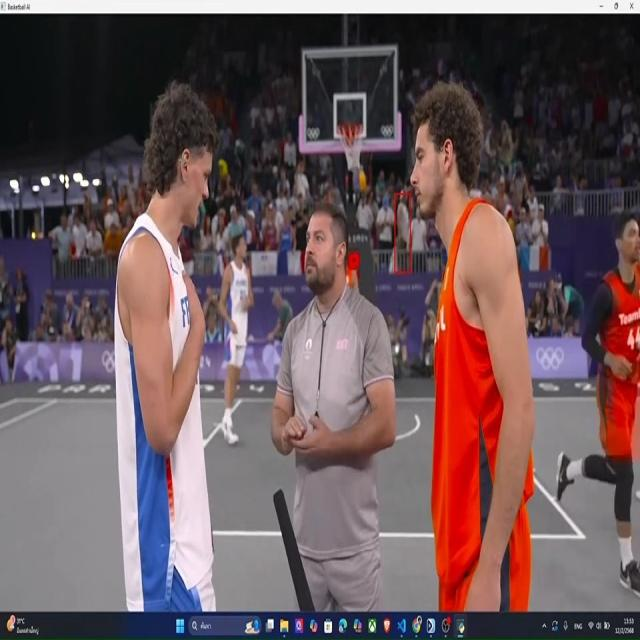hoop: (335, 120, 364, 170)
